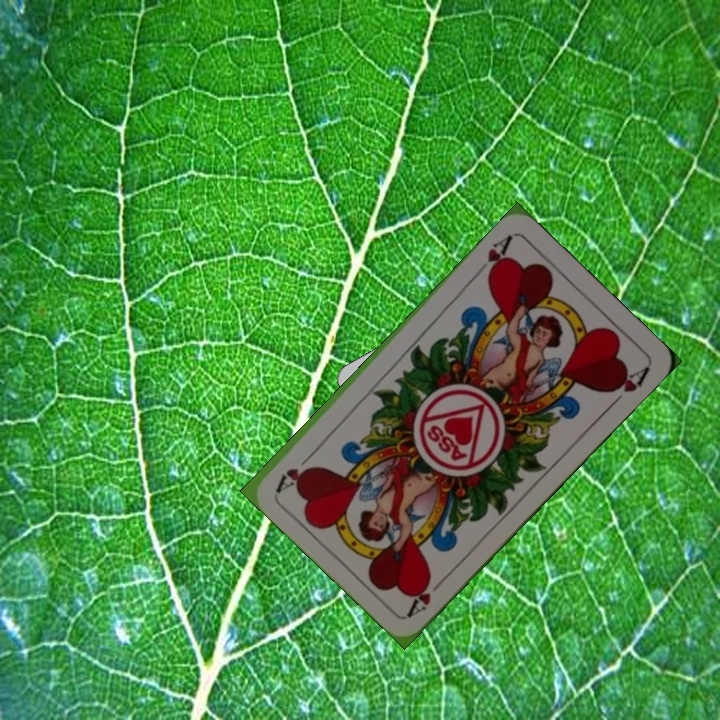HA: (472, 231, 516, 282), (404, 571, 448, 619)
